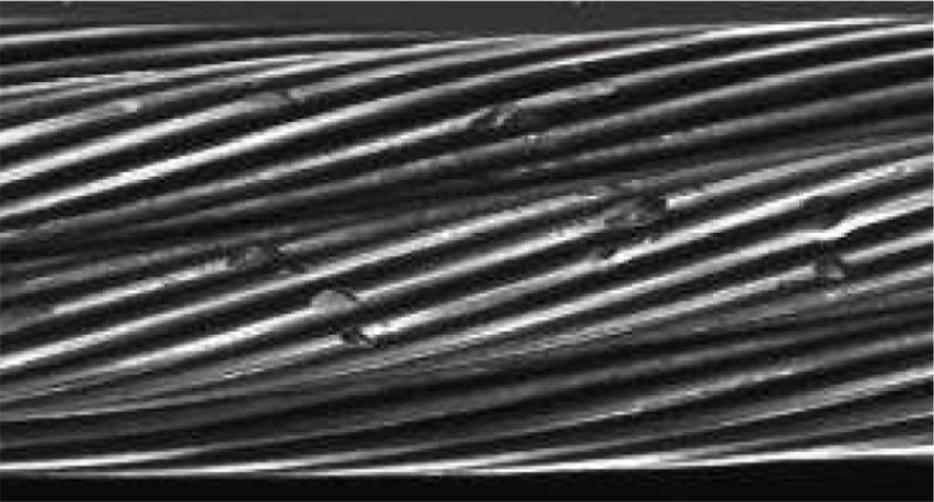break: (588, 166, 682, 249), (297, 274, 393, 355), (785, 186, 855, 293), (209, 230, 315, 291), (461, 91, 532, 145)
